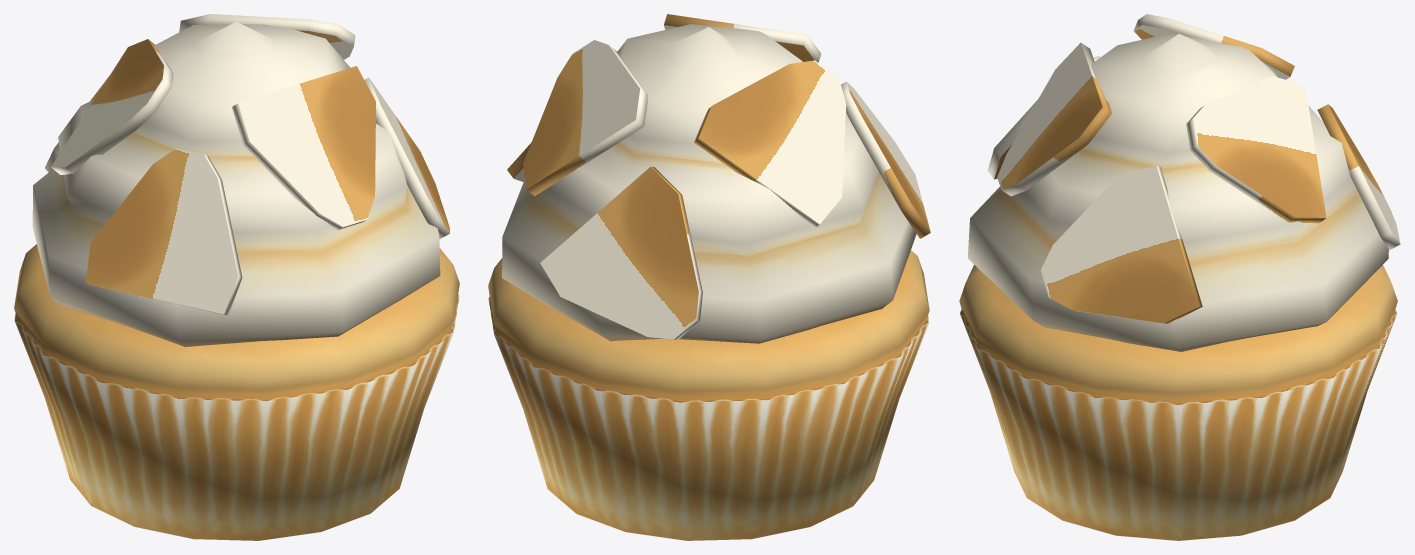
The model's file is cupcakeStrawberry.gltf.
The picture shows the model from 3 angles, left to right: view 1: azimuth 30°, elevation 25°; view 2: azimuth 150°, elevation 25°; view 3: azimuth 270°, elevation 25°; orthographic projection. The views are drawn at different scales.
Parts seen in each view (by area): view 1: Strawberry.003; view 2: Strawberry.003; view 3: Strawberry.003.
Boxes of the visible parts, left/top/right/bottom form: Strawberry.003: left=14, top=14, right=459, bottom=540; Strawberry.003: left=488, top=14, right=930, bottom=540; Strawberry.003: left=959, top=14, right=1400, bottom=540.
Bounding box in the file's own units: 1.07 × 1.18 × 1.07.
